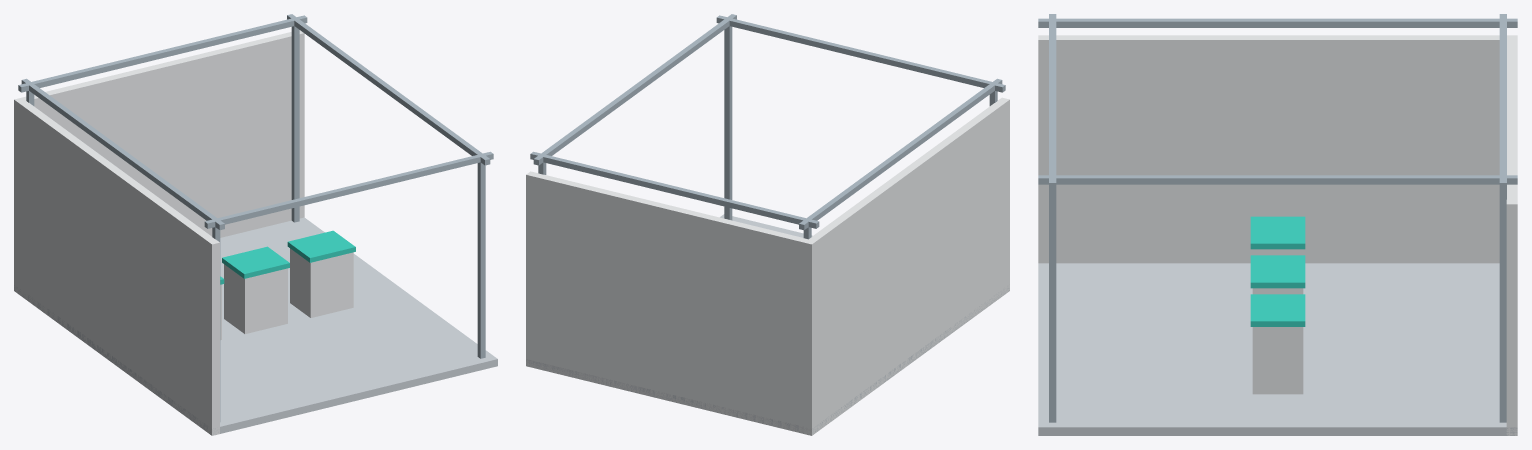
3 views of the same model, side by side, from view 1: azimuth 30°, elevation 25°; view 2: azimuth 150°, elevation 25°; view 3: azimuth 270°, elevation 25° (orthographic). The views are drawn at different scales.
Parts seen in each view (by area): view 1: Exhibition Booth Concept; view 2: Exhibition Booth Concept; view 3: Exhibition Booth Concept.
Part boxes in pixels (x1,y1,x2,y2): Exhibition Booth Concept: (14, 14, 497, 435); Exhibition Booth Concept: (526, 14, 1009, 435); Exhibition Booth Concept: (1038, 14, 1517, 435).
Size of the model in its own units: 5 by 3.49 by 6.
